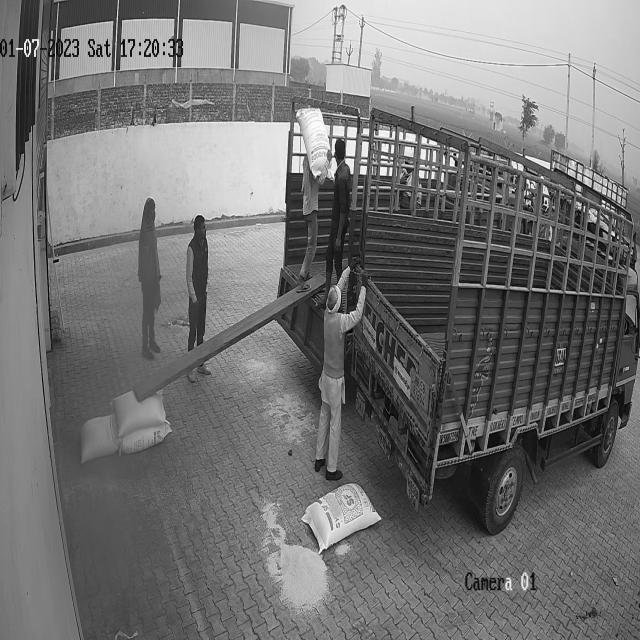sack: (301, 483, 382, 553), (296, 106, 335, 180), (110, 390, 164, 438), (80, 413, 120, 462), (120, 424, 170, 452)
